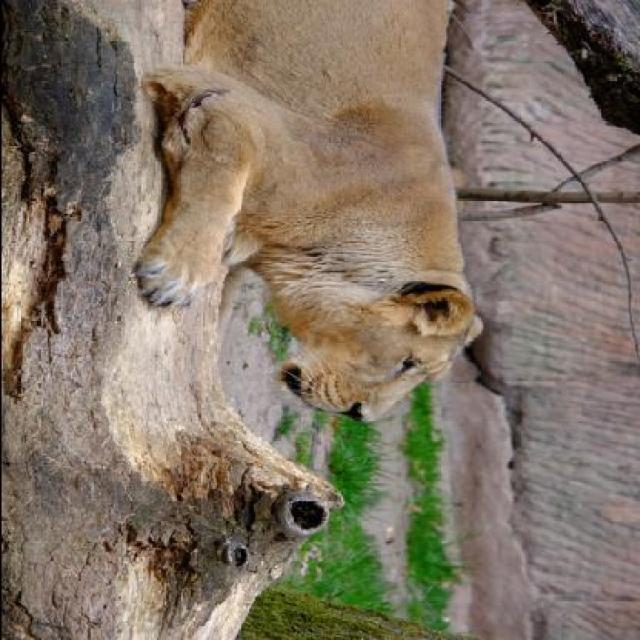Lion: (114, 2, 511, 429)
